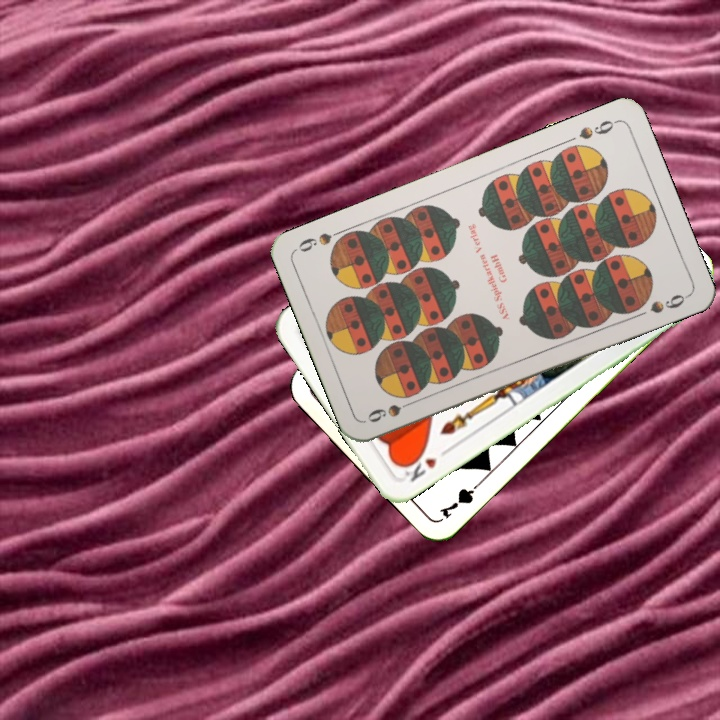G7: (436, 476, 486, 521)
HK: (397, 448, 440, 485)
S9: (363, 395, 420, 425), (574, 116, 620, 142)
